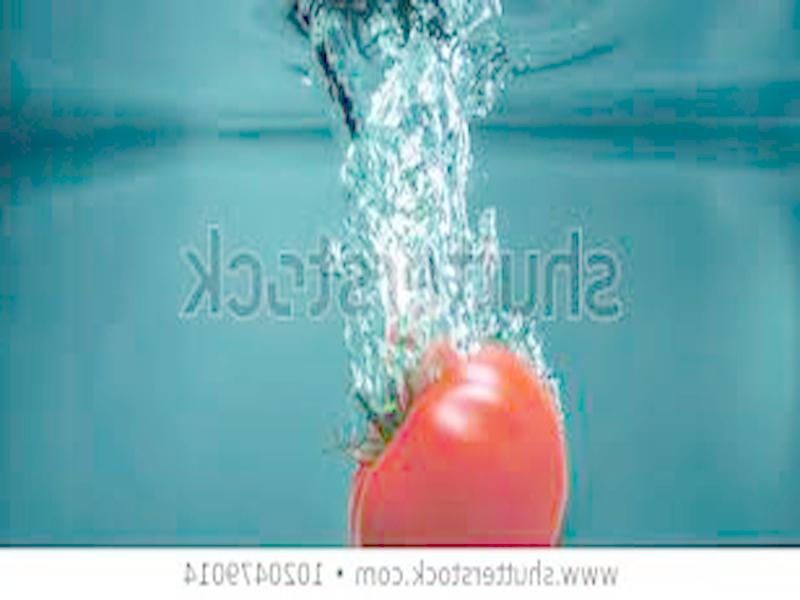Tomato: (347, 342, 565, 548)
